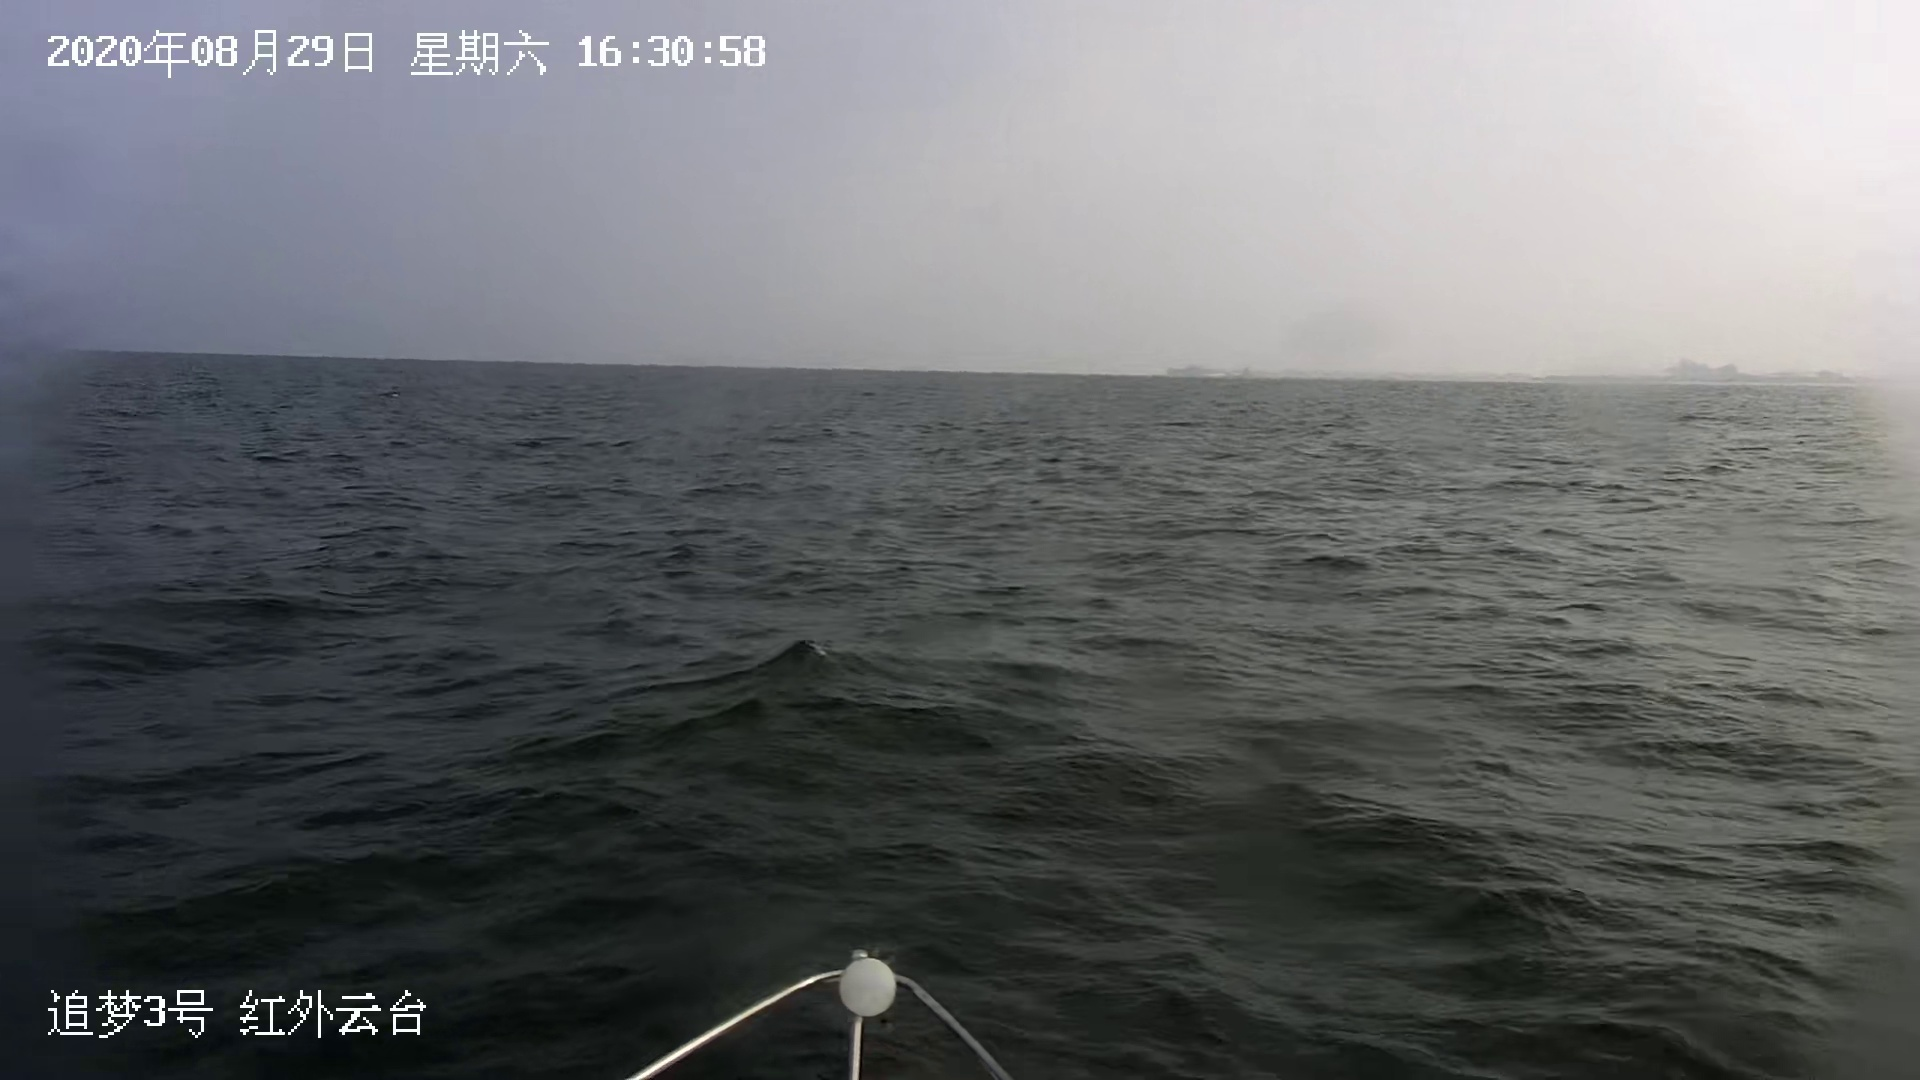coast: (1160, 359, 1920, 393)
